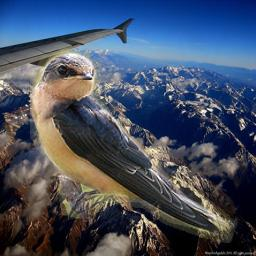Swallow: (30, 42, 240, 243)
